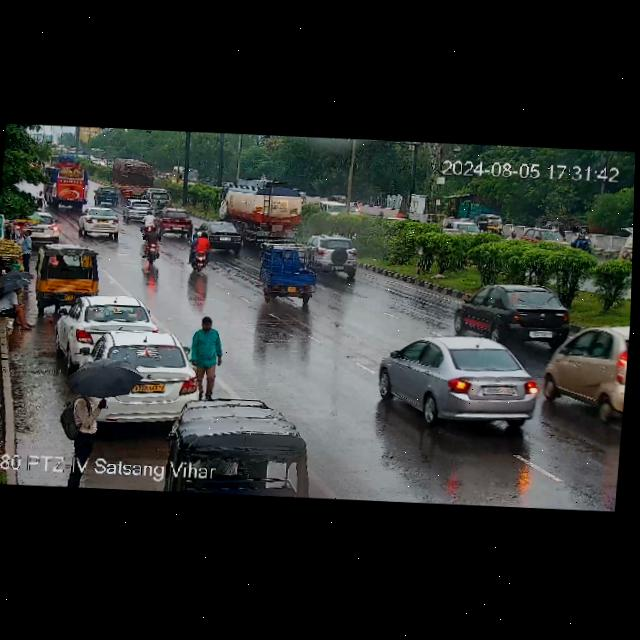bus: (43, 160, 88, 207)
car: (372, 330, 543, 433), (64, 330, 204, 429), (537, 318, 629, 424), (462, 281, 579, 348), (58, 292, 158, 357), (32, 244, 107, 306), (313, 233, 366, 281), (76, 208, 125, 239), (195, 222, 243, 251), (159, 210, 196, 237), (141, 186, 175, 206), (125, 200, 156, 220), (94, 185, 122, 205)
motorcycle: (257, 243, 324, 303), (187, 230, 215, 275), (137, 228, 165, 265)
person: (64, 360, 143, 433), (190, 314, 225, 398), (0, 283, 37, 334), (15, 227, 40, 268)
truck: (220, 184, 309, 251), (109, 158, 155, 192)
